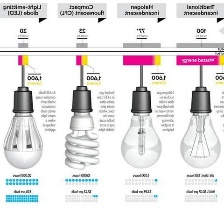light_bulb: (0, 84, 46, 171), (61, 85, 103, 172), (118, 101, 165, 169), (175, 106, 223, 170)
